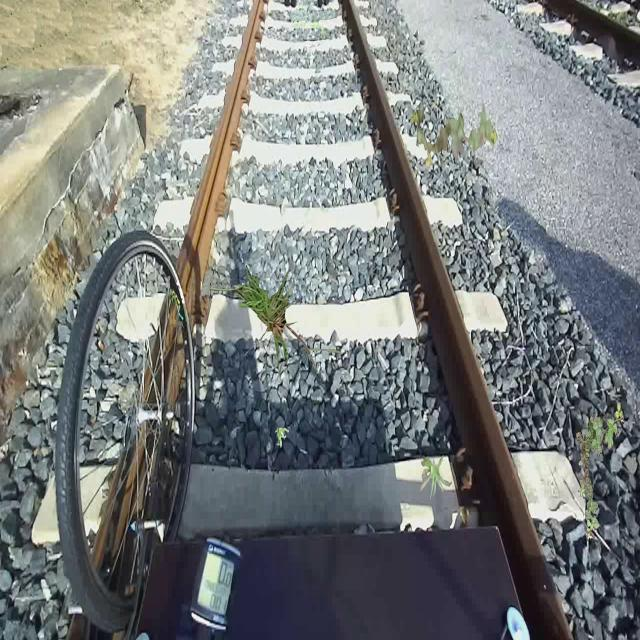Plant: (198, 264, 342, 384), (576, 403, 624, 541), (411, 101, 498, 170), (420, 454, 452, 500), (275, 427, 289, 448)
